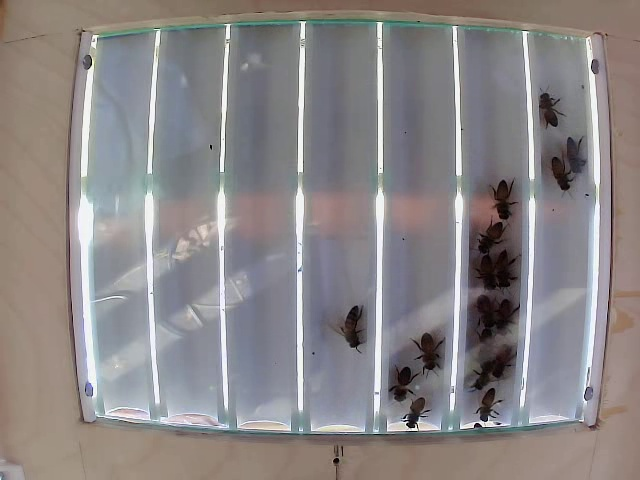bee: (334, 304, 372, 356), (539, 89, 568, 138), (411, 327, 442, 372), (473, 213, 502, 258), (476, 385, 509, 424), (488, 340, 516, 384), (401, 392, 434, 429), (545, 155, 572, 200), (491, 250, 519, 293), (490, 173, 514, 221), (493, 295, 519, 339), (559, 132, 584, 175), (471, 252, 495, 293), (466, 350, 492, 384), (391, 364, 414, 402)
